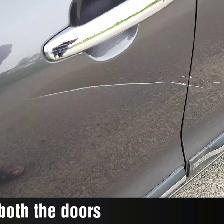door_scratch: (21, 62, 224, 122)
